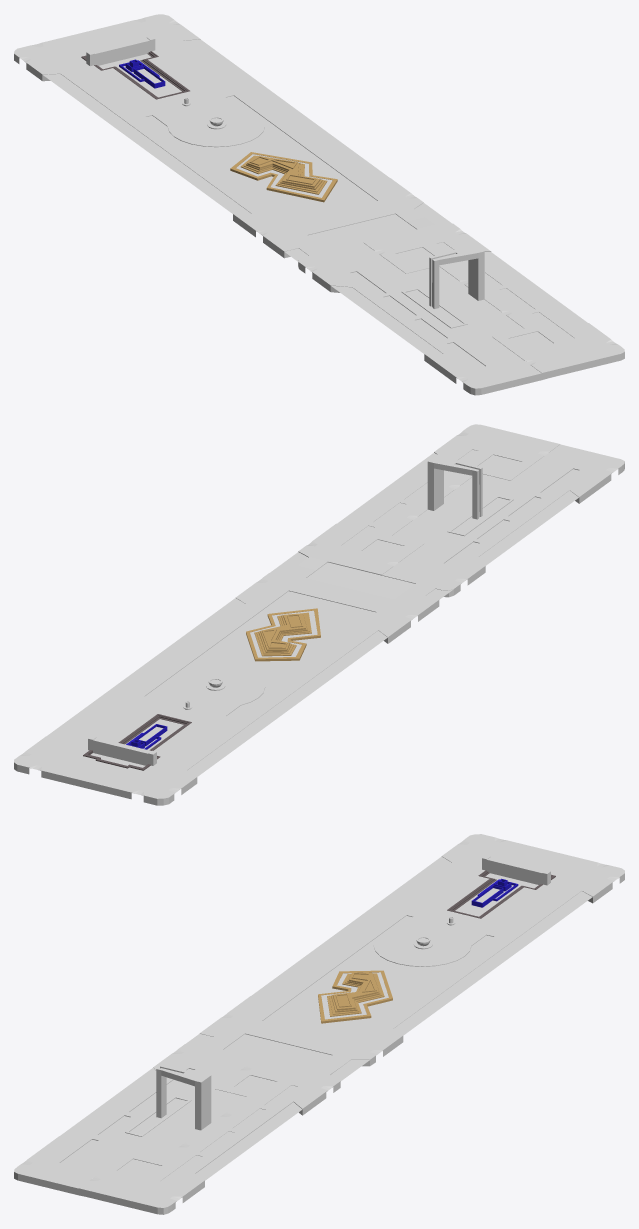
The model's file is New_Praca.fbx.
3 renders of one model, top to bottom at view 1: azimuth 30°, elevation 25°; view 2: azimuth 150°, elevation 25°; view 3: azimuth 330°, elevation 25°, orthographic.
Visible parts, largest first — view 1: Estrutura_praca, Gramado, Asfalto, monumentochafaris, agua, portal do milenium.001, monumento; view 2: Estrutura_praca, Gramado, Asfalto, monumentochafaris, agua, portal do milenium.001, monumento; view 3: Estrutura_praca, Gramado, Asfalto, monumentochafaris, agua, portal do milenium.001, monumento.
Part boxes in pixels (left/top/right/bottom): Estrutura_praca: left=14, top=14, right=624, bottom=395; Gramado: left=146, top=96, right=574, bottom=367; Asfalto: left=43, top=39, right=587, bottom=353; monumentochafaris: left=81, top=51, right=337, bottom=202; agua: left=99, top=54, right=463, bottom=326; portal do milenium.001: left=429, top=244, right=484, bottom=308; monumento: left=86, top=36, right=155, bottom=66; Estrutura_praca: left=14, top=424, right=624, bottom=805; Gramado: left=145, top=449, right=578, bottom=717; Asfalto: left=46, top=453, right=578, bottom=776; monumentochafaris: left=83, top=608, right=320, bottom=770; agua: left=90, top=497, right=508, bottom=767; portal do milenium.001: left=427, top=454, right=482, bottom=519; monumento: left=88, top=736, right=156, bottom=765; Estrutura_praca: left=14, top=834, right=624, bottom=1214; Gramado: left=60, top=915, right=493, bottom=1182; Asfalto: left=60, top=856, right=592, bottom=1180; monumentochafaris: left=318, top=870, right=555, bottom=1023; agua: left=130, top=873, right=538, bottom=1134; portal do milenium.001: left=156, top=1065, right=211, bottom=1130; monumento: left=482, top=855, right=550, bottom=885.
Size of the model in its own units: 5381 by 1833 by 27905.
